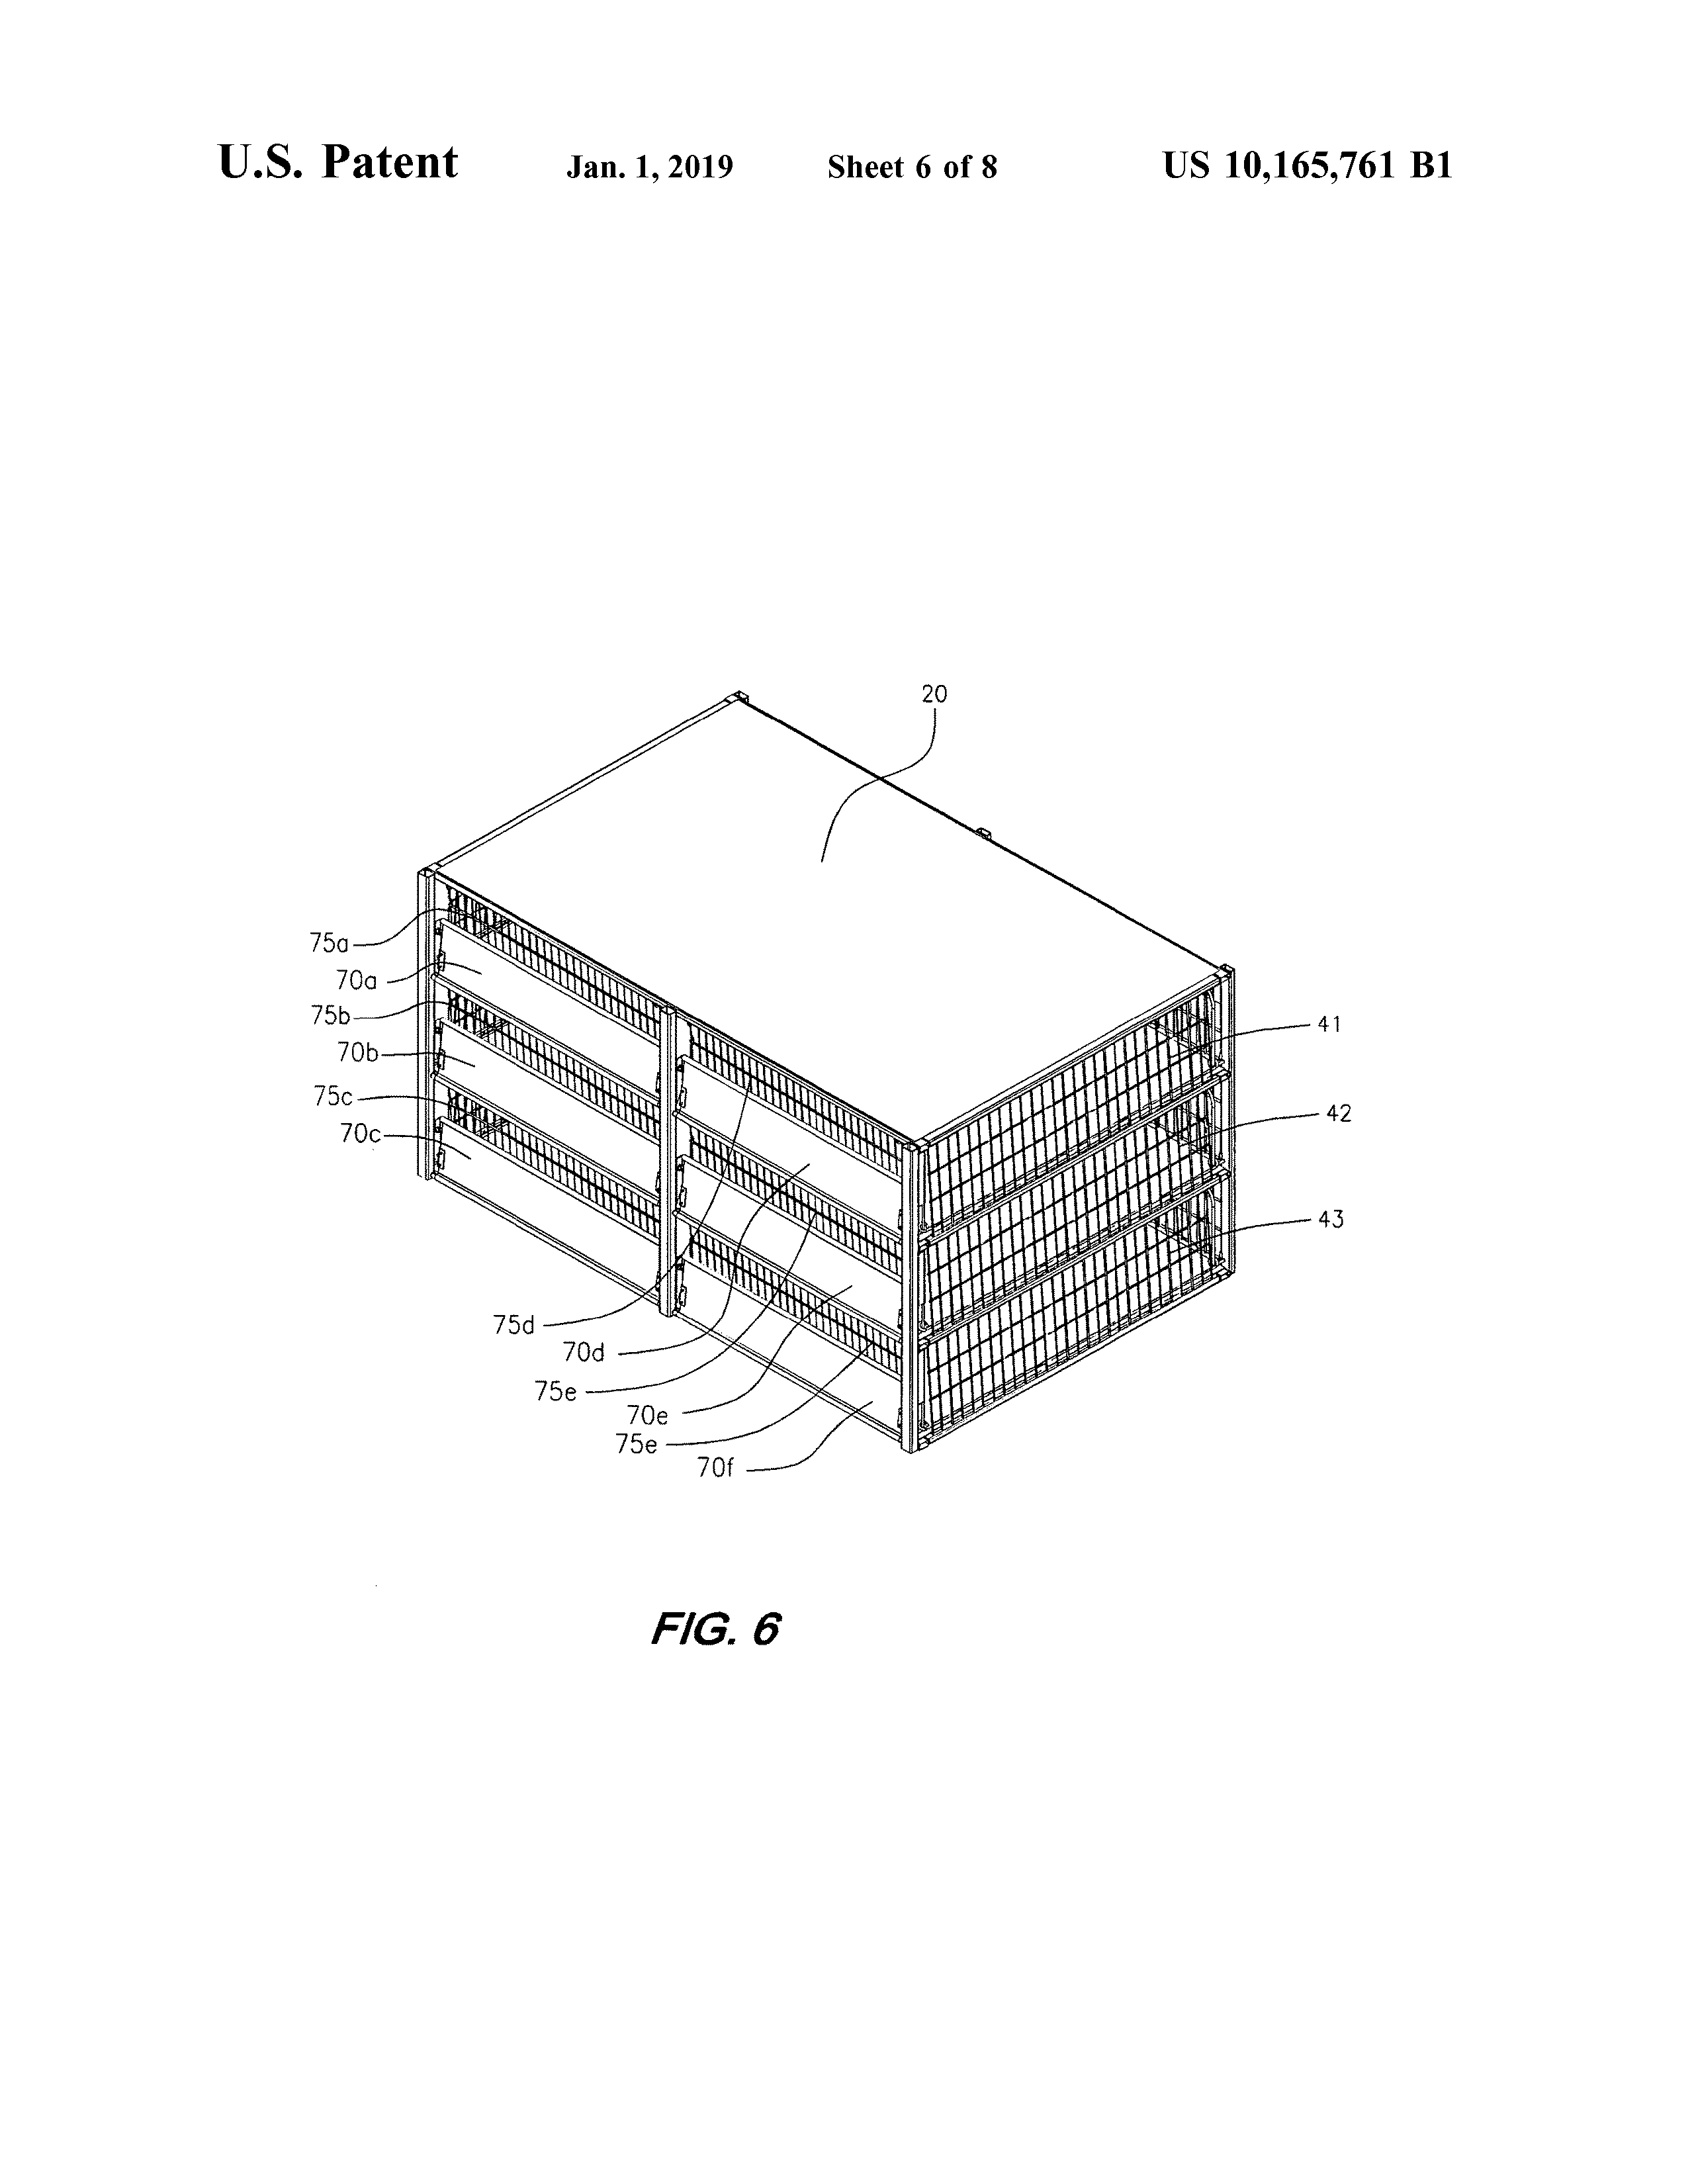patent image: (272, 617, 1397, 1721)
